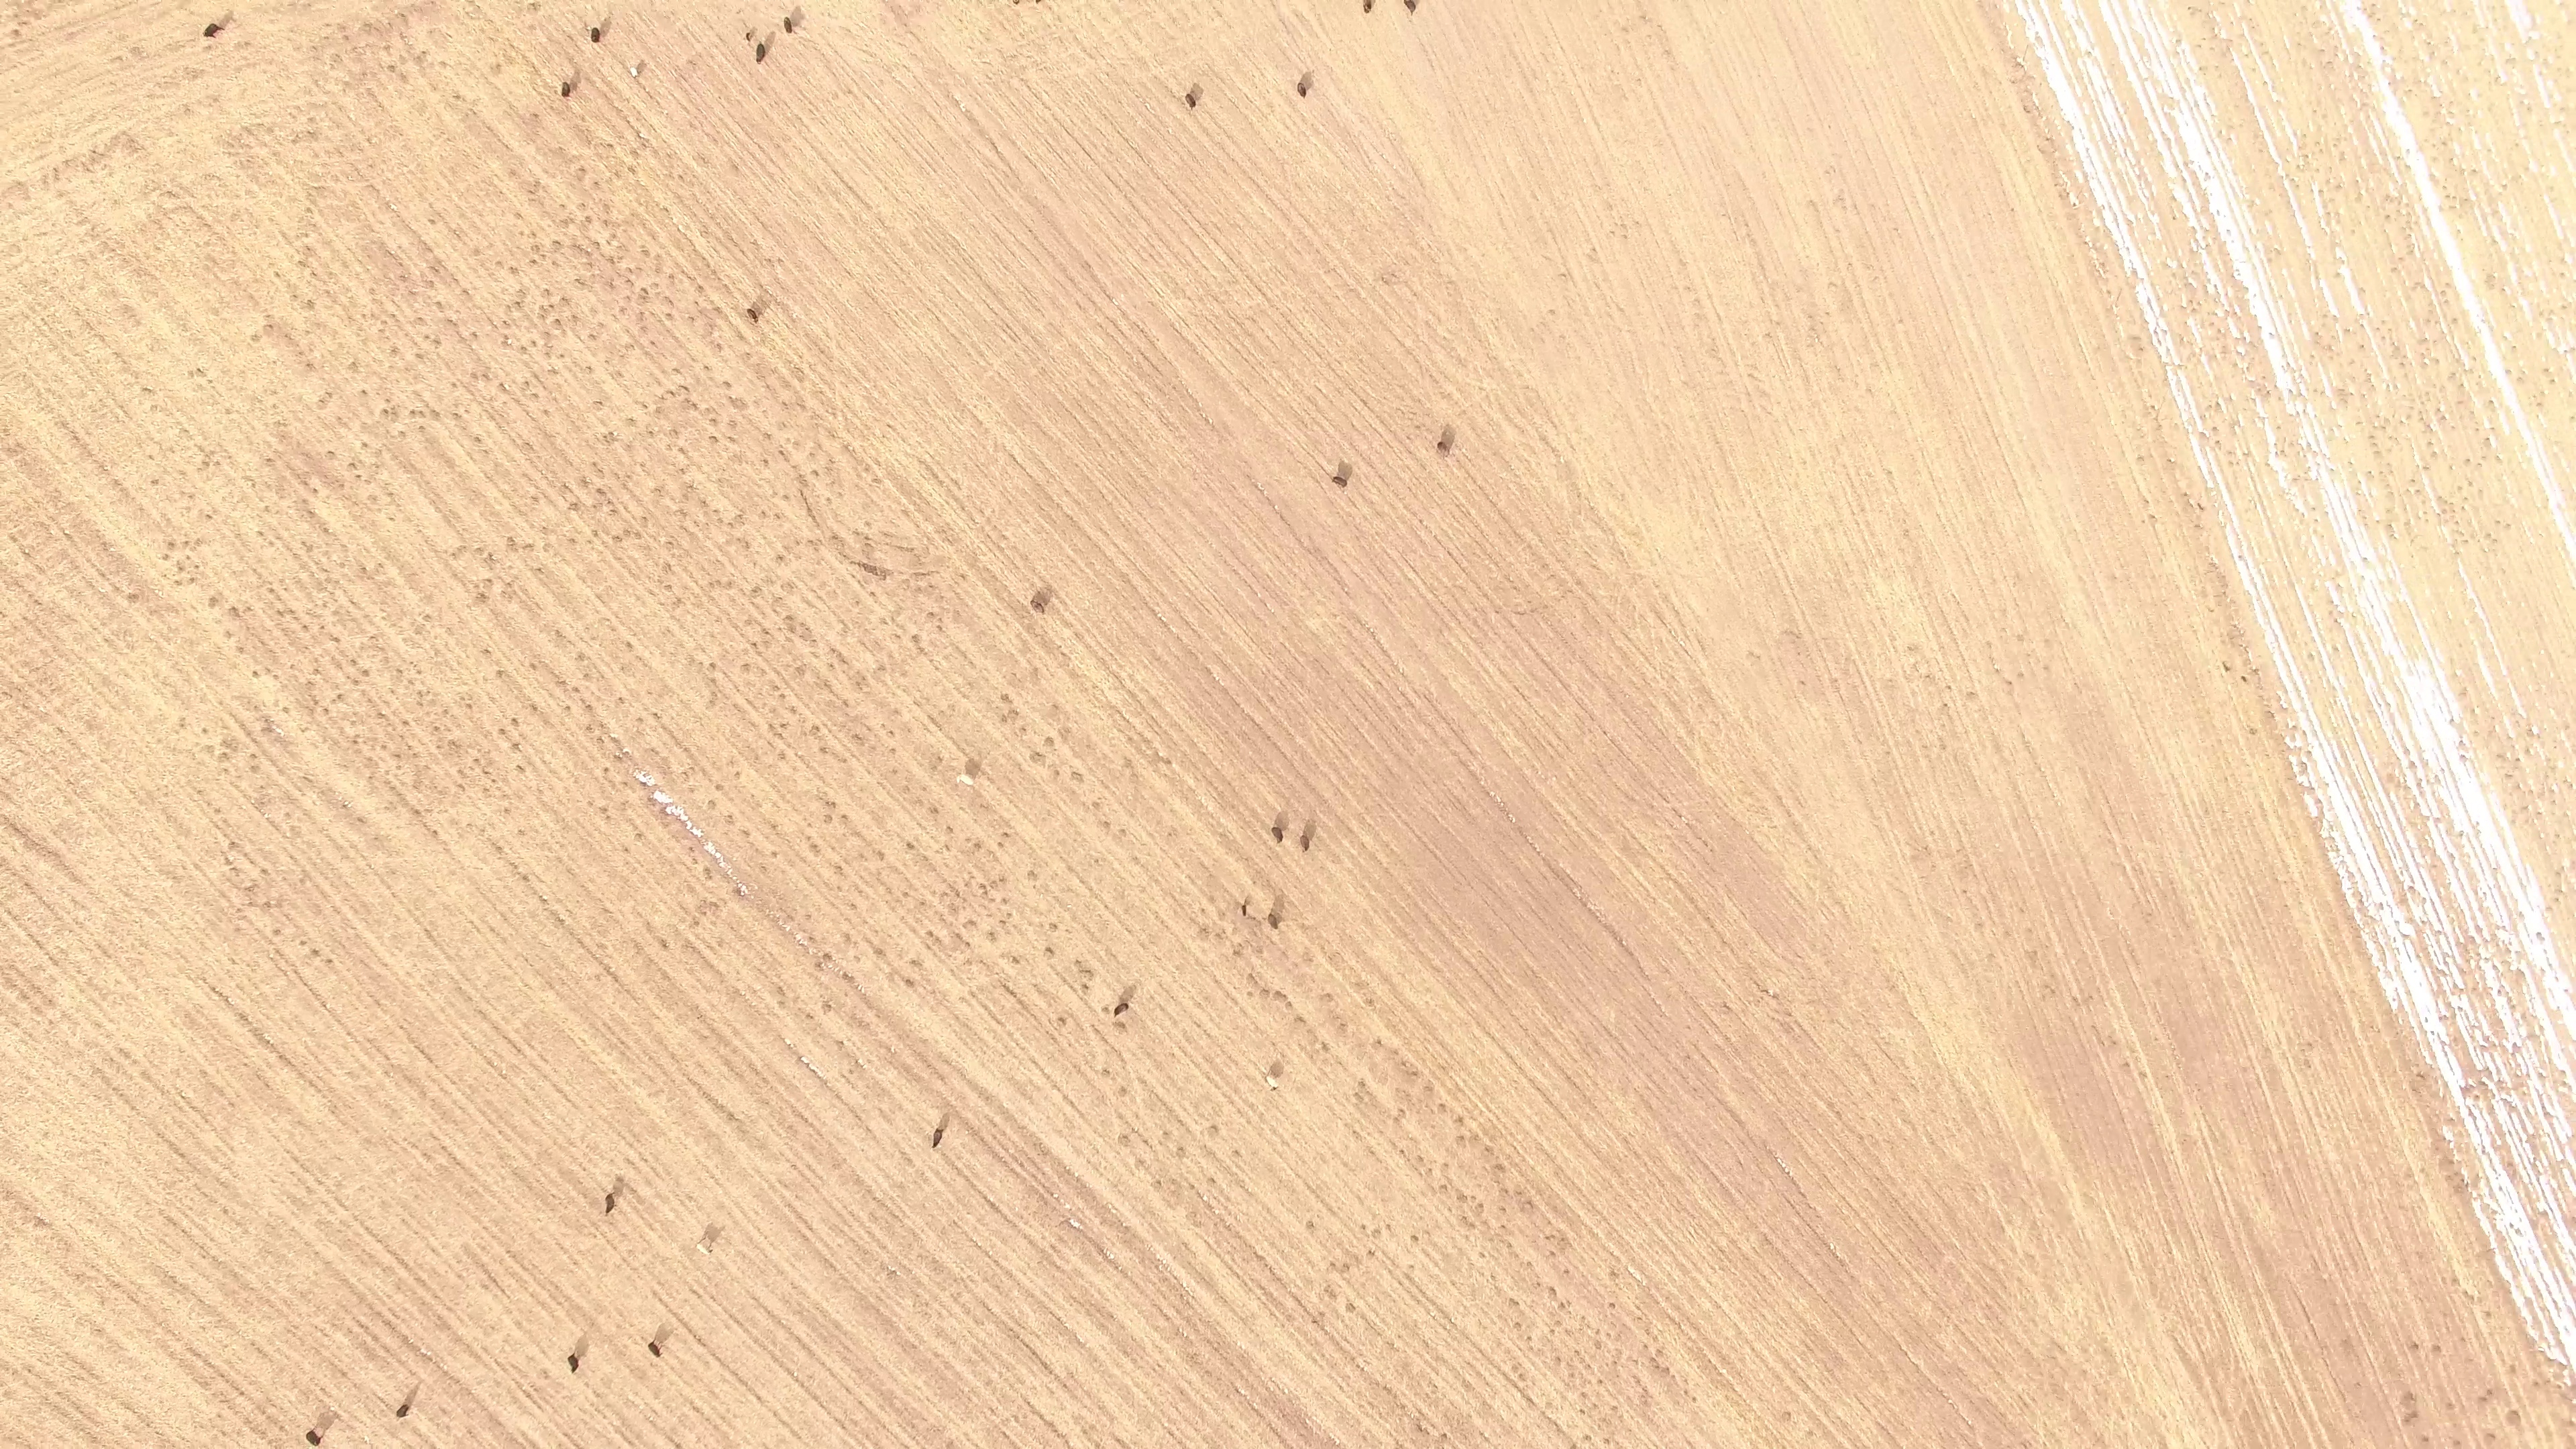sheep: (600, 1189, 621, 1218), (694, 1234, 716, 1257), (645, 1336, 665, 1360), (200, 20, 225, 40), (1263, 906, 1283, 933), (303, 1427, 324, 1449), (391, 1401, 413, 1424), (1261, 1071, 1284, 1093), (1432, 437, 1455, 460), (564, 1350, 584, 1375), (953, 771, 978, 789), (753, 40, 769, 65), (1111, 998, 1133, 1018), (1269, 823, 1287, 846), (1182, 90, 1201, 113), (558, 78, 578, 101), (930, 1125, 948, 1150), (781, 13, 798, 37), (1027, 596, 1049, 615), (744, 305, 762, 325), (1297, 833, 1314, 856), (1329, 473, 1352, 490), (588, 23, 606, 46), (1294, 80, 1311, 100), (625, 62, 645, 80), (1401, 1, 1421, 15), (1238, 899, 1253, 920), (1360, 1, 1379, 16), (742, 28, 757, 44)
unknown: (2475, 1118, 2493, 1150), (2420, 1020, 2438, 1044), (651, 789, 676, 806), (317, 1413, 335, 1433), (1267, 1059, 1284, 1081), (861, 561, 881, 578), (2504, 1159, 2520, 1182), (2402, 1408, 2421, 1426), (2479, 1155, 2494, 1177), (2451, 1181, 2468, 1197), (839, 970, 857, 985), (1273, 895, 1287, 912), (2437, 1155, 2457, 1169), (2500, 1203, 2514, 1222), (2487, 1173, 2502, 1191), (658, 804, 674, 817), (636, 773, 650, 790), (2567, 1347, 2576, 1371), (2528, 1216, 2540, 1233), (2435, 1026, 2449, 1040), (1055, 1014, 1069, 1028), (902, 976, 916, 990), (2514, 966, 2528, 980), (820, 950, 835, 963), (2508, 1407, 2520, 1418), (2401, 1390, 2416, 1403), (2559, 1356, 2570, 1372), (2430, 1342, 2444, 1354), (34, 1216, 47, 1228), (2493, 1192, 2508, 1205), (2475, 1077, 2489, 1089), (2414, 1070, 2428, 1082), (1114, 1019, 1128, 1031), (1002, 983, 1016, 997), (1009, 954, 1022, 967), (690, 826, 704, 838), (2384, 772, 2397, 786), (2407, 758, 2418, 771), (229, 605, 242, 620), (260, 724, 276, 736), (125, 591, 142, 602), (2518, 1308, 2530, 1320), (1546, 1284, 1559, 1297), (1493, 1161, 1506, 1173), (1272, 987, 1285, 1000), (1042, 944, 1055, 955), (733, 885, 745, 898), (904, 840, 917, 853), (1051, 767, 1063, 778), (508, 715, 521, 727), (359, 667, 372, 679), (165, 539, 178, 551), (593, 485, 604, 496), (11, 27, 22, 39), (2508, 1362, 2518, 1376), (2397, 895, 2411, 906), (678, 812, 691, 823), (2477, 1394, 2489, 1405), (2483, 1387, 2495, 1399), (2530, 1379, 2542, 1389), (1660, 1365, 1672, 1377), (2408, 1341, 2421, 1352), (613, 1174, 627, 1186), (2443, 1172, 2455, 1183), (2452, 1169, 2464, 1180), (2529, 1141, 2540, 1152), (1408, 1069, 1421, 1079), (2485, 1068, 2495, 1081), (794, 1053, 804, 1065), (1320, 1041, 1330, 1053), (2510, 1040, 2520, 1051), (2494, 1016, 2505, 1027), (2518, 1011, 2528, 1022), (812, 961, 824, 971), (875, 947, 886, 958), (309, 947, 322, 958), (987, 929, 998, 941), (924, 928, 936, 939), (965, 917, 977, 928), (492, 843, 504, 854), (410, 806, 423, 818), (712, 781, 724, 793), (584, 702, 596, 713), (558, 678, 569, 688), (2221, 663, 2233, 674), (527, 660, 538, 672), (330, 634, 342, 645), (207, 594, 219, 606), (477, 590, 490, 602), (176, 564, 187, 574), (200, 458, 213, 470), (264, 455, 276, 466), (2567, 1381, 2576, 1395), (2538, 1210, 2551, 1220), (2420, 1435, 2432, 1445), (1044, 1419, 1055, 1430), (2559, 1391, 2569, 1401), (237, 1389, 247, 1399), (216, 1370, 226, 1380), (1557, 1300, 1567, 1310), (2496, 1263, 2506, 1274), (1256, 1253, 1267, 1264), (1368, 1249, 1378, 1259), (1543, 1233, 1554, 1243), (1358, 1222, 1368, 1232), (1071, 1220, 1081, 1230), (987, 1200, 998, 1210), (1438, 1182, 1450, 1192), (1187, 1182, 1197, 1193), (2529, 1161, 2539, 1171), (2443, 1130, 2454, 1141), (2440, 1124, 2450, 1134), (1455, 1114, 1466, 1126), (2471, 1092, 2481, 1102), (2409, 1085, 2420, 1095), (1118, 1085, 1128, 1095), (2422, 1054, 2433, 1066), (276, 1052, 286, 1063), (2451, 1035, 2461, 1045), (256, 1033, 266, 1044), (1015, 997, 1026, 1007), (209, 984, 219, 994), (1079, 981, 1090, 991), (1246, 971, 1256, 981), (2457, 967, 2467, 977), (908, 957, 919, 967), (323, 956, 335, 966), (2460, 941, 2470, 953), (297, 938, 308, 948), (2469, 936, 2479, 946), (2534, 929, 2544, 939), (2475, 925, 2485, 935), (691, 918, 702, 928), (264, 900, 274, 911), (901, 889, 911, 899), (2406, 883, 2416, 894), (989, 877, 1000, 888), (520, 873, 531, 883), (1028, 869, 1038, 879), (261, 867, 271, 877), (223, 856, 233, 867), (713, 850, 723, 861), (995, 839, 1005, 849), (1002, 830, 1012, 841), (930, 805, 941, 815), (645, 795, 656, 806), (602, 765, 612, 775), (248, 763, 258, 773), (1164, 757, 1174, 767), (472, 755, 482, 765), (611, 752, 621, 762), (818, 745, 829, 756), (498, 727, 508, 737), (2468, 706, 2478, 716), (530, 704, 541, 714), (563, 703, 574, 713), (998, 692, 1008, 702), (334, 692, 344, 702), (708, 676, 718, 686), (493, 667, 504, 678), (708, 660, 719, 671), (624, 640, 635, 651), (2330, 616, 2341, 626), (784, 612, 795, 623), (266, 586, 277, 596), (2218, 572, 2229, 582), (828, 533, 839, 543), (62, 531, 72, 541), (321, 525, 331, 536), (804, 506, 815, 516), (310, 486, 320, 496), (300, 478, 310, 488), (761, 457, 771, 467), (431, 409, 443, 420), (2213, 400, 2223, 411), (2485, 397, 2496, 407), (325, 390, 335, 400), (413, 351, 425, 362), (2131, 333, 2141, 343), (432, 266, 442, 276), (428, 217, 438, 227), (2038, 147, 2048, 157), (387, 62, 398, 72), (2013, 59, 2023, 69), (2568, 1214, 2576, 1227), (646, 776, 657, 786), (672, 1441, 684, 1449), (1440, 1431, 1450, 1441), (1415, 1422, 1425, 1433), (1689, 1394, 1699, 1404), (754, 1393, 764, 1403), (2543, 1354, 2553, 1364), (1647, 1354, 1658, 1364), (2483, 1309, 2493, 1320), (887, 1268, 897, 1278), (1411, 1234, 1421, 1244), (1475, 1201, 1486, 1211), (1016, 1160, 1026, 1170), (1457, 1133, 1467, 1143), (1210, 1122, 1220, 1132), (2540, 1109, 2551, 1119), (1399, 1059, 1409, 1069), (263, 1037, 273, 1048), (1374, 1036, 1384, 1047), (237, 1012, 247, 1022), (1102, 1004, 1112, 1015), (215, 989, 225, 1000), (659, 941, 669, 951), (2552, 895, 2562, 905), (810, 842, 820, 852), (971, 840, 983, 850), (430, 827, 440, 837), (839, 812, 850, 822), (339, 801, 350, 811), (2414, 780, 2424, 790), (350, 737, 360, 747), (811, 723, 821, 733), (400, 718, 411, 728), (808, 513, 818, 523), (197, 445, 207, 455), (360, 440, 370, 450), (2210, 424, 2220, 434), (1567, 1442, 1579, 1449), (2559, 1079, 2569, 1089), (2411, 801, 2421, 811), (249, 735, 259, 745), (1032, 1, 1043, 6)
